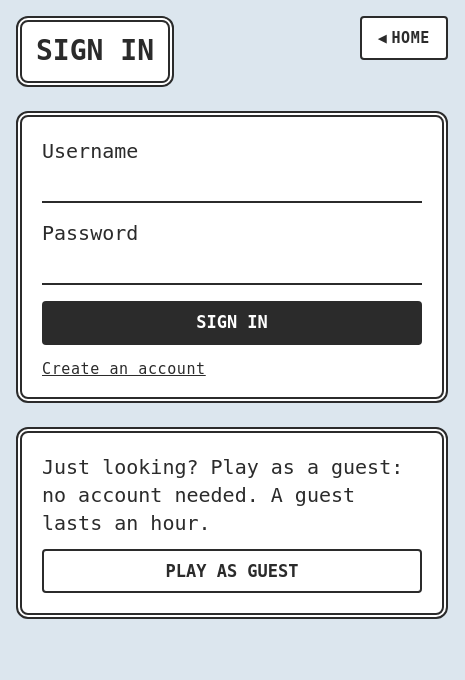
Test: LoginScreen › shows the API message when sign-in fails
Type "Drew_1" into the field labelled "Username" at (232, 184), box [42,165,422,203]
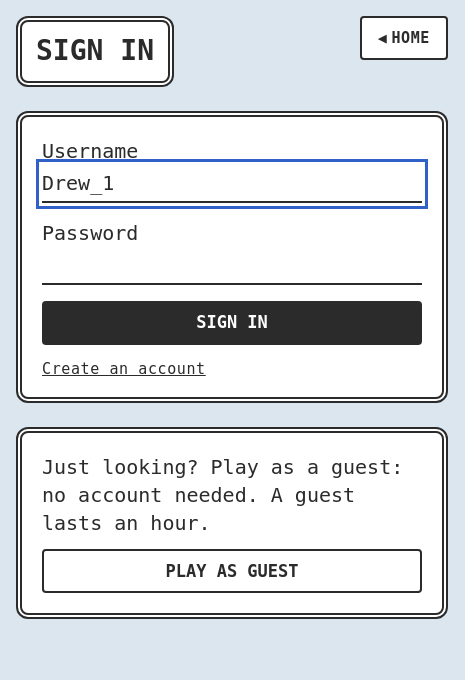
Type "nope-nope" into the password field labelled "Password" at (232, 266), box [42,247,422,285]
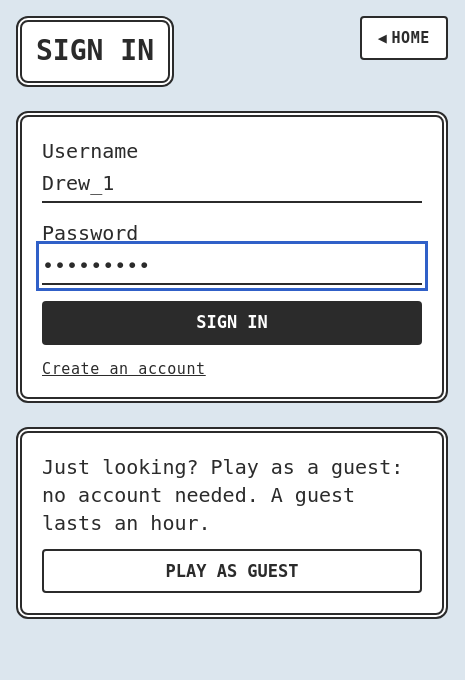
Click the button "Sign in" at (232, 323), box [42,301,422,345]
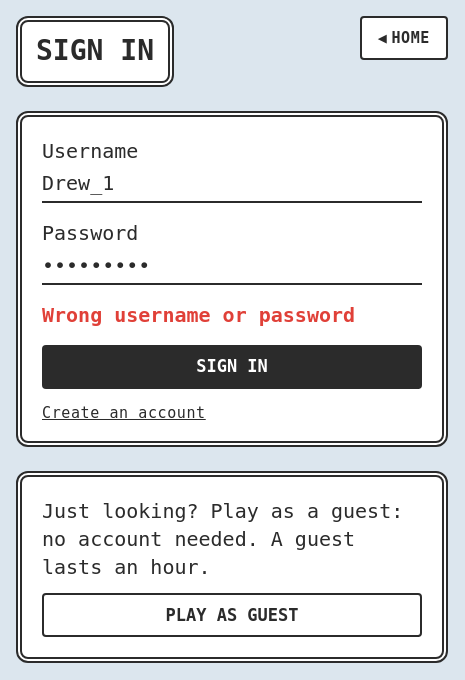
Result: the message reads "Wrong username or password" at [42,303,355,327]
